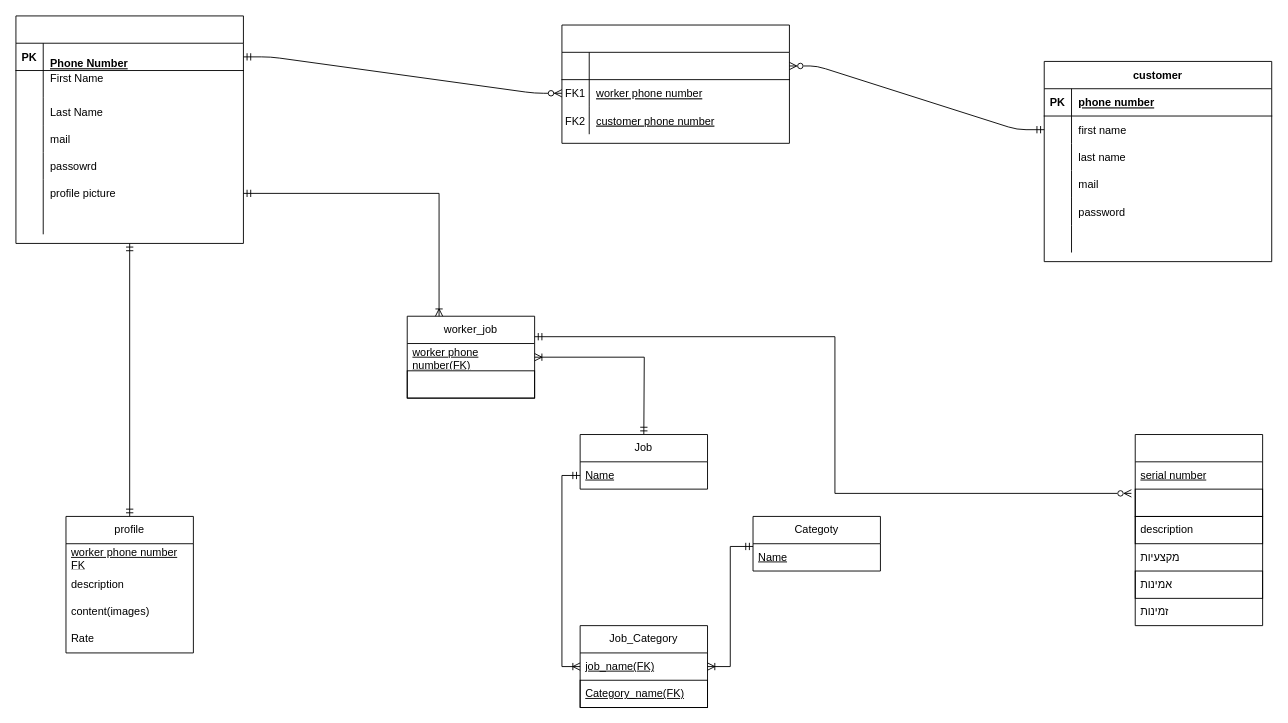
The diagram is 1288 pixels wide and 723 high, and some of its shapes have lost their labels. The box of each missing label's shape, as (x1, y1, x2, y2) in pixels:
job name(FK): (406, 370, 535, 398)
woker_phone_number(FK): (1134, 488, 1263, 516)
worker: (15, 15, 243, 243)
מזמין: (561, 24, 789, 143)
סקר: (1134, 434, 1263, 626)
